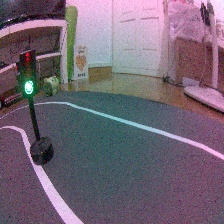green: (15, 46, 58, 168)
